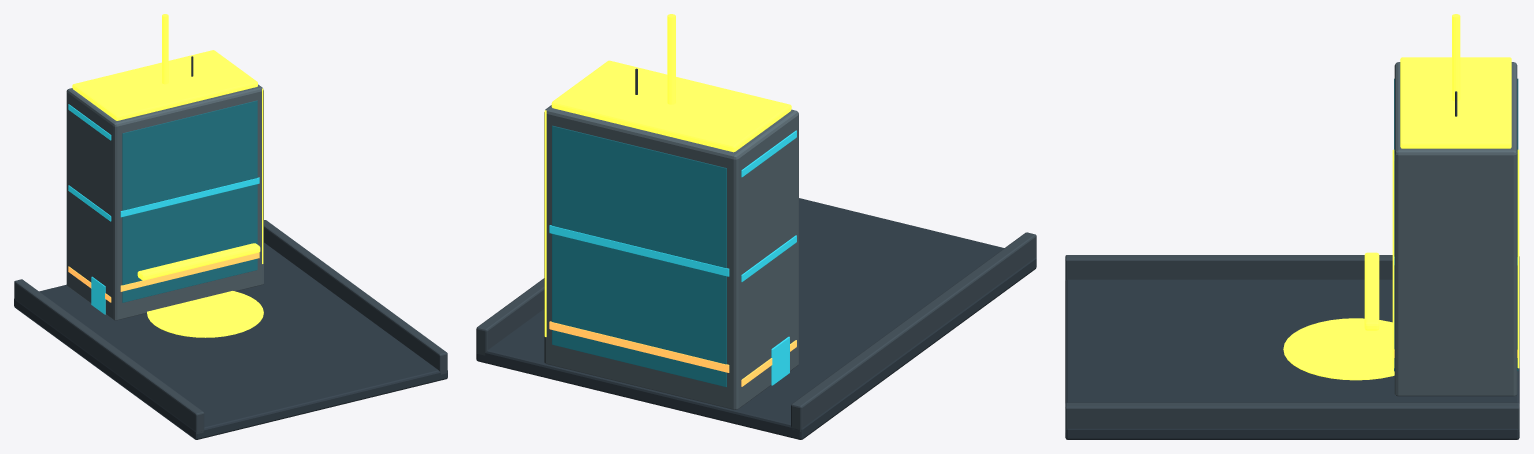
File: destination_lod1.glb
3 views of the same model, side by side, from view 1: azimuth 30°, elevation 25°; view 2: azimuth 150°, elevation 25°; view 3: azimuth 270°, elevation 25° (orthographic). The views are drawn at different scales.
Visible parts, largest first — view 1: ND_Batch_ND_RooftopMetal, ND_Batch_ND_DarkGlass, ND_Batch_ND_CityConcreteLight, ND_Batch_ND_PackageGold, ND_Batch_ND_CityConcrete, ND_Batch_ND_NeonGlass, ND_Batch_ND_WarmWindow; view 2: ND_Batch_ND_DarkGlass, ND_Batch_ND_RooftopMetal, ND_Batch_ND_CityConcreteLight, ND_Batch_ND_PackageGold, ND_Batch_ND_CityConcrete, ND_Batch_ND_NeonGlass, ND_Batch_ND_WarmWindow; view 3: ND_Batch_ND_RooftopMetal, ND_Batch_ND_CityConcreteLight, ND_Batch_ND_CityConcrete, ND_Batch_ND_PackageGold, ND_Batch_ND_DarkGlass.
Part boxes in pixels (box(x1,y1,x2,y2)): ND_Batch_ND_RooftopMetal: box(14, 56, 447, 439); ND_Batch_ND_DarkGlass: box(122, 100, 257, 302); ND_Batch_ND_CityConcreteLight: box(66, 84, 263, 320); ND_Batch_ND_PackageGold: box(72, 14, 263, 337); ND_Batch_ND_CityConcrete: box(14, 220, 447, 434); ND_Batch_ND_NeonGlass: box(68, 104, 259, 314); ND_Batch_ND_WarmWindow: box(68, 252, 259, 302); ND_Batch_ND_DarkGlass: box(552, 125, 726, 387); ND_Batch_ND_RooftopMetal: box(476, 68, 1036, 439); ND_Batch_ND_CityConcreteLight: box(544, 105, 798, 409); ND_Batch_ND_PackageGold: box(544, 14, 791, 336); ND_Batch_ND_CityConcrete: box(476, 232, 1036, 432); ND_Batch_ND_NeonGlass: box(549, 130, 796, 385); ND_Batch_ND_WarmWindow: box(549, 321, 796, 386); ND_Batch_ND_RooftopMetal: box(1065, 91, 1519, 439); ND_Batch_ND_CityConcreteLight: box(1394, 62, 1517, 396); ND_Batch_ND_CityConcrete: box(1065, 255, 1519, 432); ND_Batch_ND_PackageGold: box(1283, 14, 1519, 380); ND_Batch_ND_DarkGlass: box(1394, 78, 1518, 371).
Bounding box in the file's own units: 16 × 16.93 × 20.
